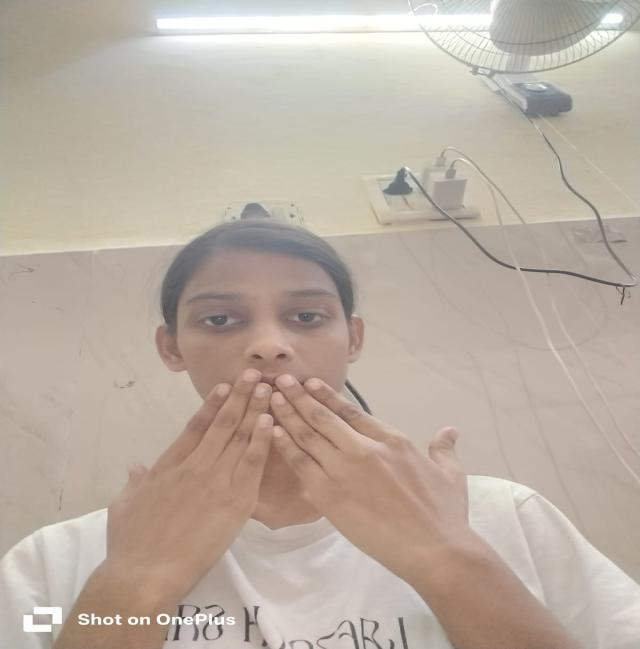Thanks: (91, 364, 501, 591)
